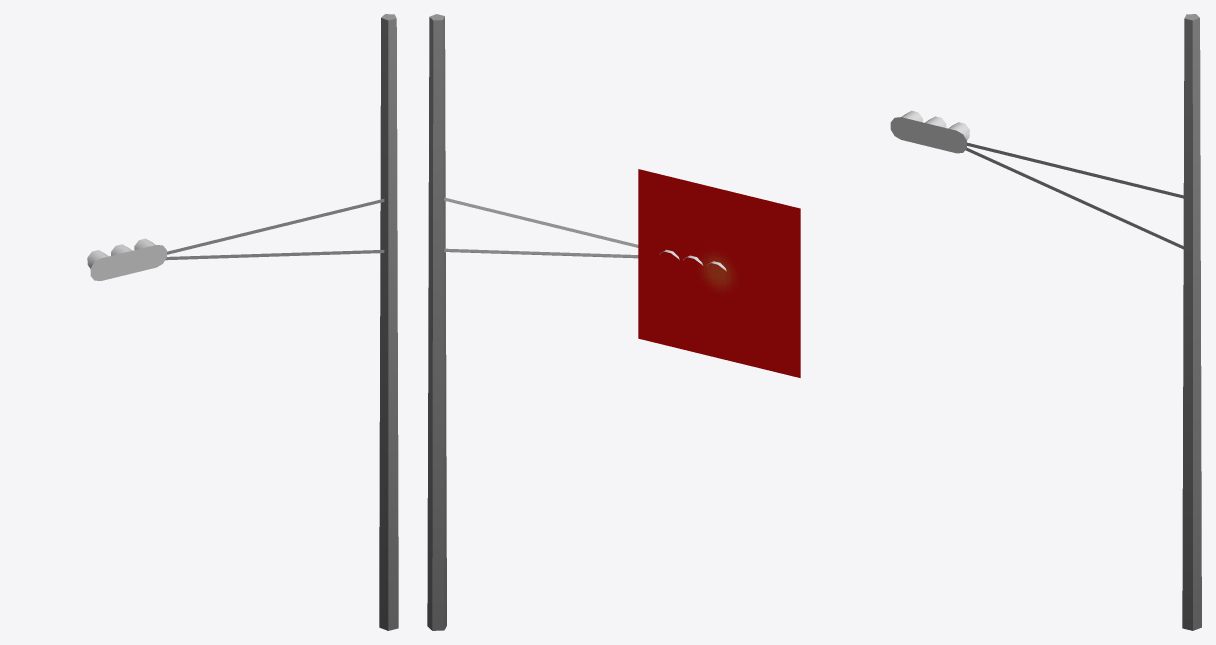
File: SIGNAL_ROMEN_RED.glb
3 views of the same model, side by side, from view 1: azimuth 30°, elevation 25°; view 2: azimuth 150°, elevation 25°; view 3: azimuth 330°, elevation 25° (orthographic).
Parts seen in each view (by area): view 1: Model; view 2: Model; view 3: Model.
Part boxes in pixels (x1,y1,x2,y2): Model: [87, 14, 398, 630]; Model: [427, 14, 800, 630]; Model: [890, 14, 1201, 630].
Size of the model in its own units: 21.02 by 32.42 by 1.24.
Materials: 2 (1 with a texture image).
